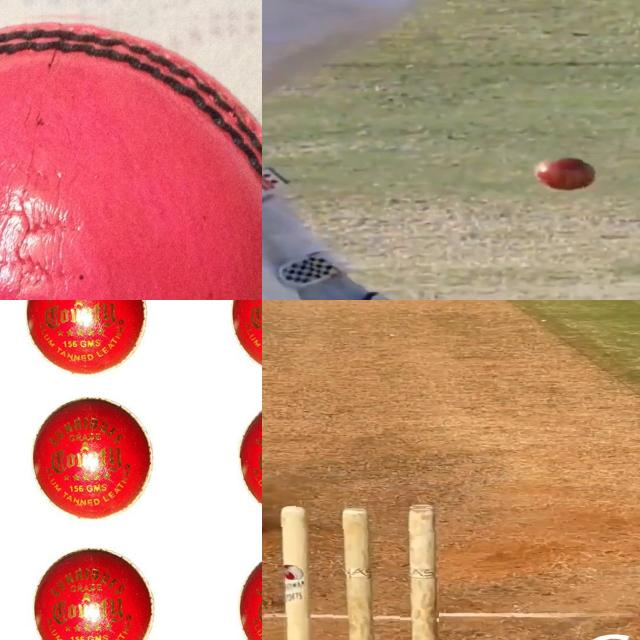Cricket ball: (0, 7, 262, 300), (19, 390, 164, 522), (15, 538, 177, 640), (10, 300, 162, 377), (220, 389, 262, 528), (211, 300, 262, 377), (532, 154, 600, 192)
Stumps: (279, 504, 439, 640)
